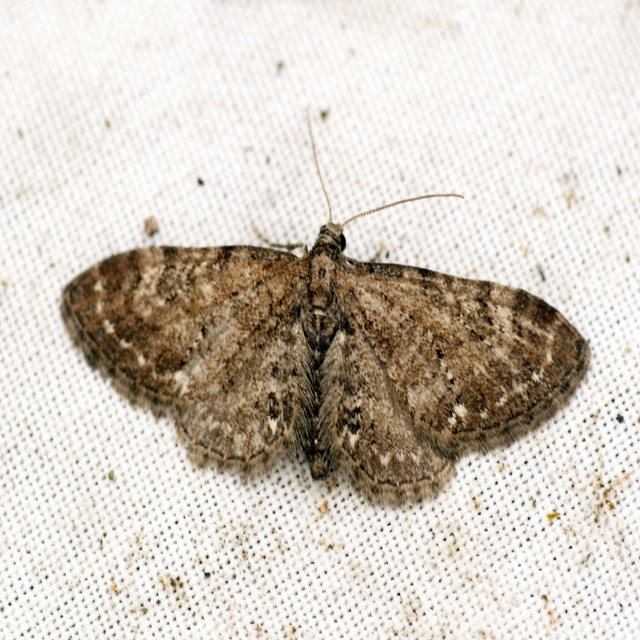Butterfly: (188, 143, 581, 502)
